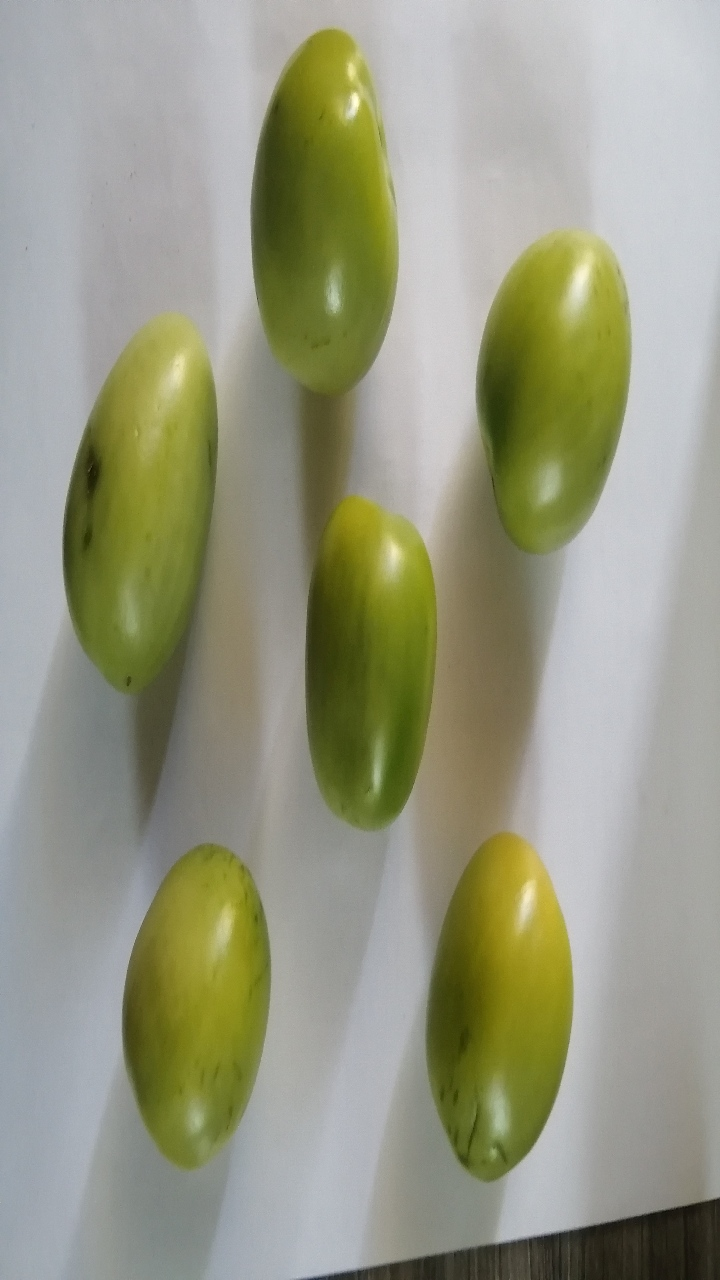tomateVerde: (18, 315, 274, 717), (449, 182, 678, 579), (234, 8, 437, 417), (404, 815, 578, 1199), (268, 472, 440, 852), (109, 820, 281, 1183)
